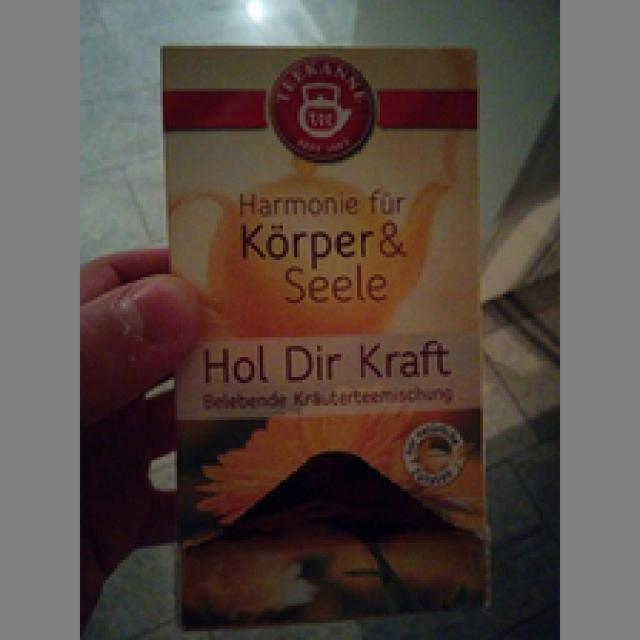groceries: (157, 40, 489, 631)
